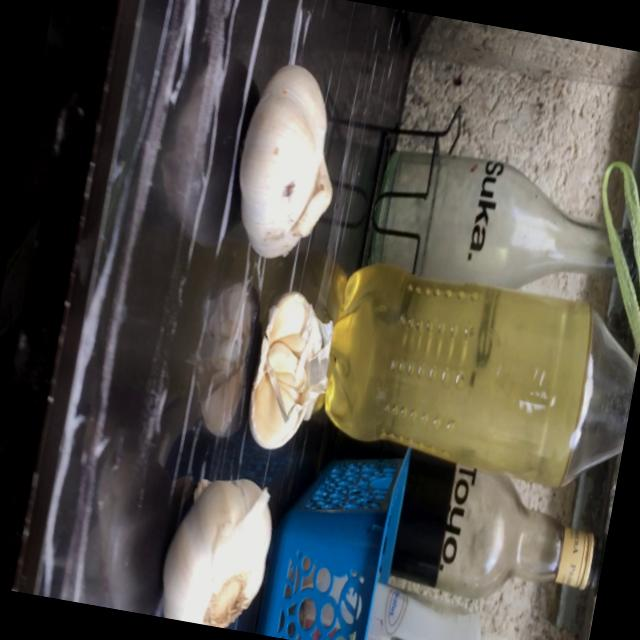garlic: (222, 54, 356, 270), (150, 461, 280, 634), (237, 284, 337, 460)
